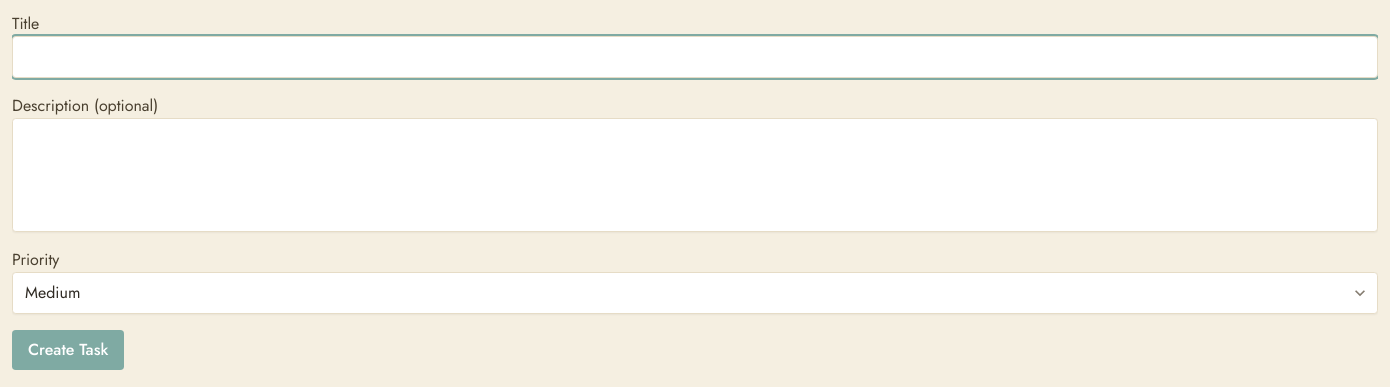
Test: TaskForm › disables inputs and changes button text to "Loading..." while the action is pending
Type "My new task" into the field labelled "Title" at (695, 57), box [12,36,1378,78]
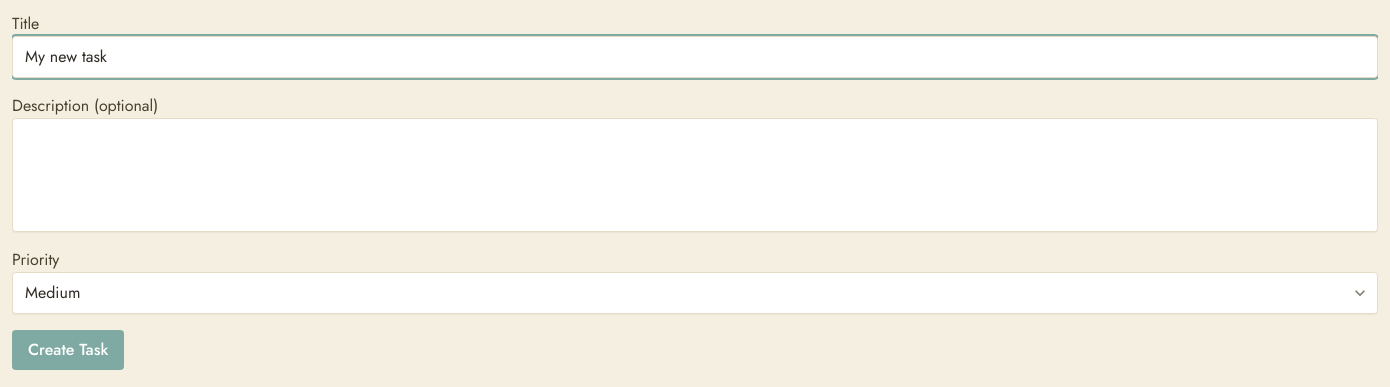
Click the button "Create Task" at (68, 350), box [12,330,124,370]
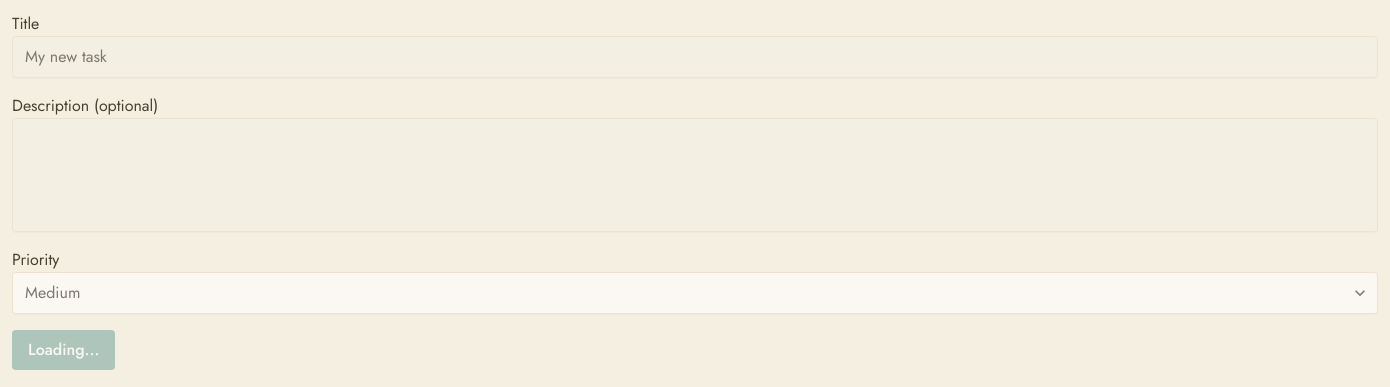
Result: the button "Loading..." is disabled at [12,330,115,370]
Result: the field labelled "Title" is disabled at [12,36,1378,78]
